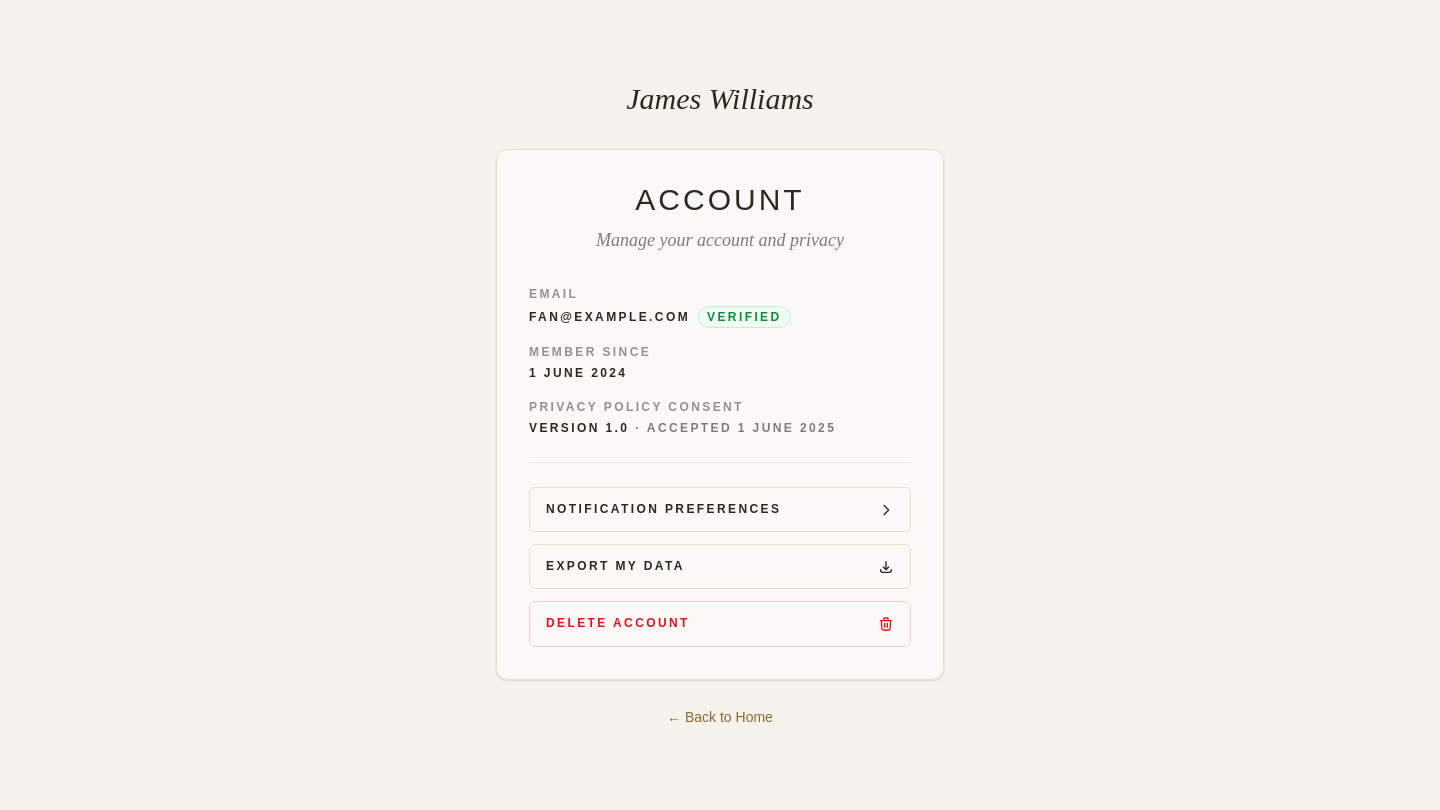
Test: DeleteAccountDialog › shows error on delete failure
This screenshot has width=1440, height=810.
Expected: the text "Delete Account" is shown, [546,614,690,634]
Click the button "Delete Account".
click(618, 623)  # box [529,602,911,647]
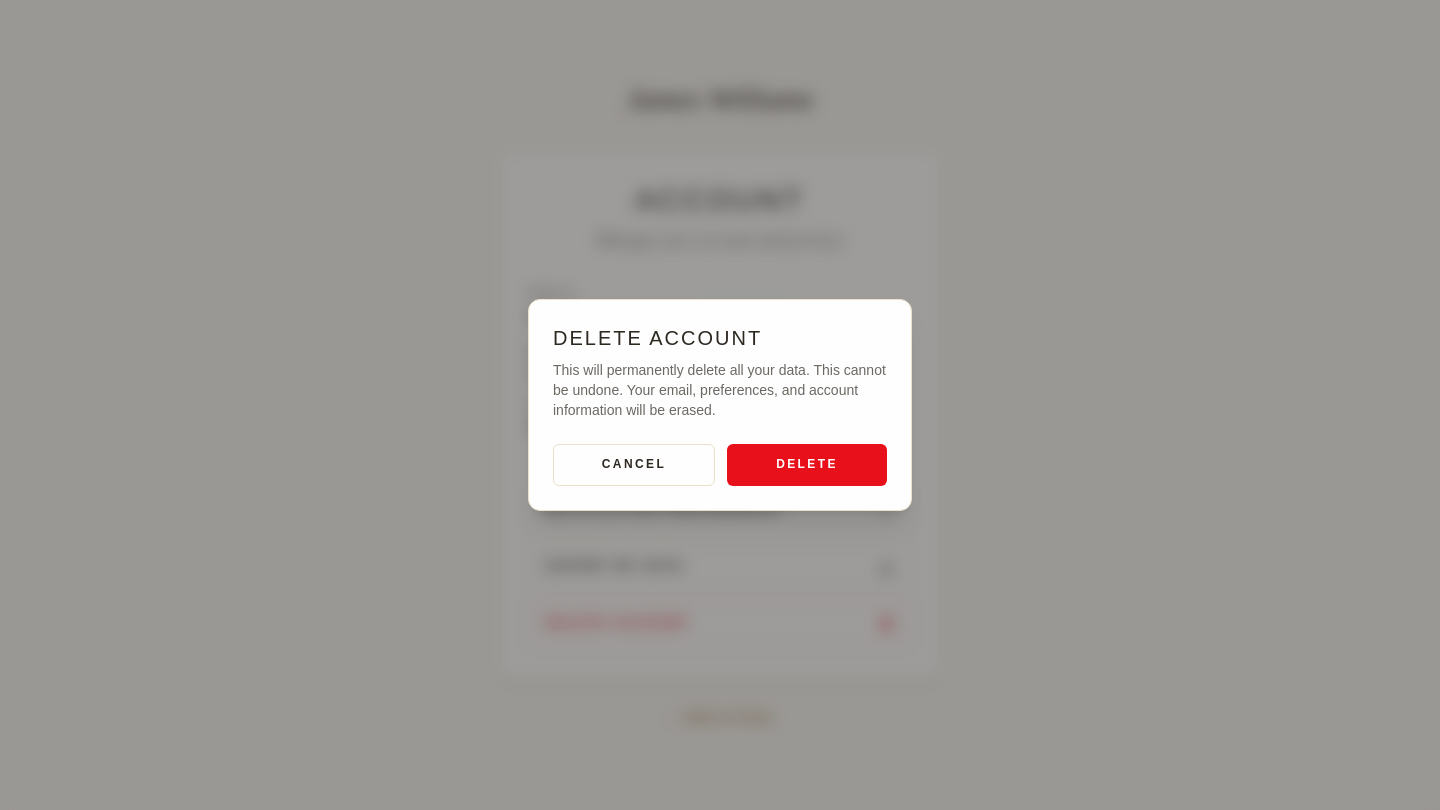
Expected: the dialog is shown
Click the button "Delete".
click(807, 465)  # box [727,444,887,486]
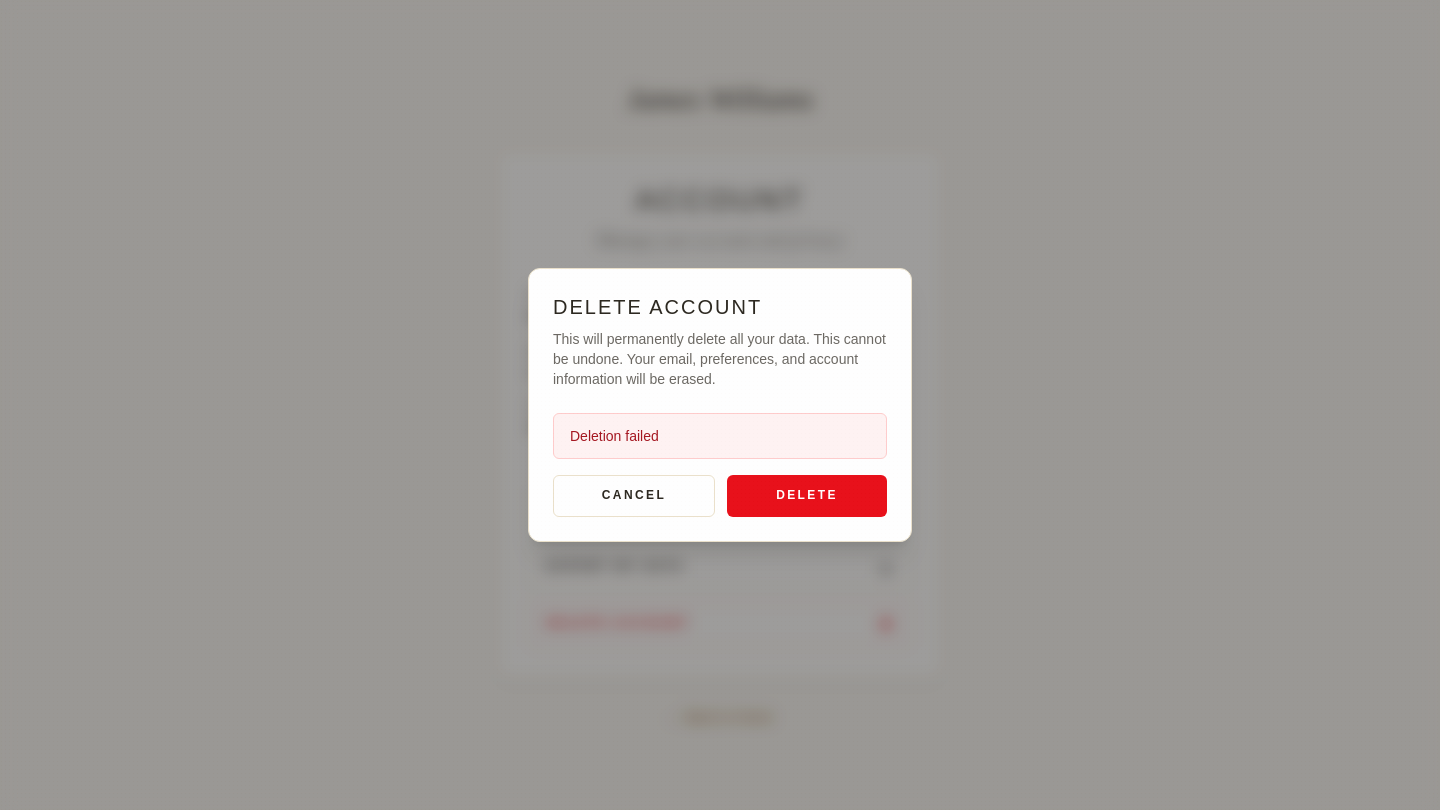
Expected: the text "Deletion failed" is shown, [553,413,887,459]
